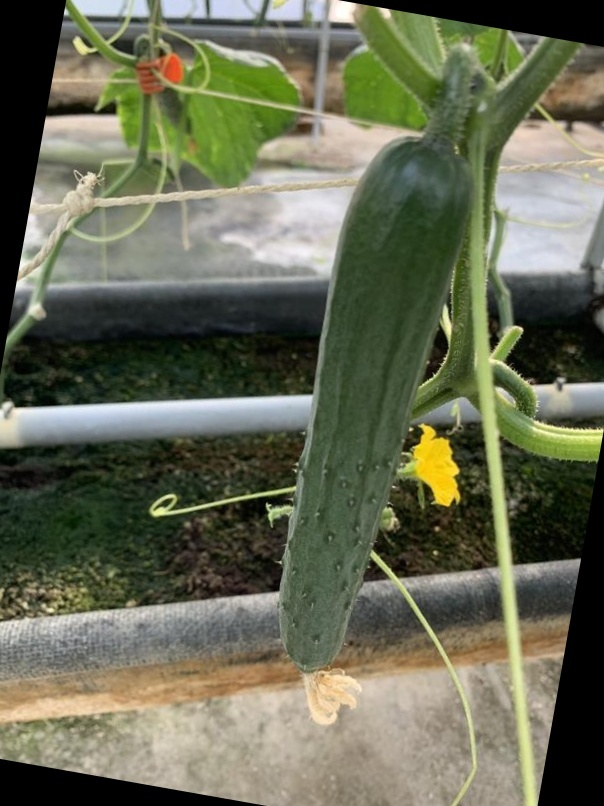mature: (272, 150, 471, 674)
